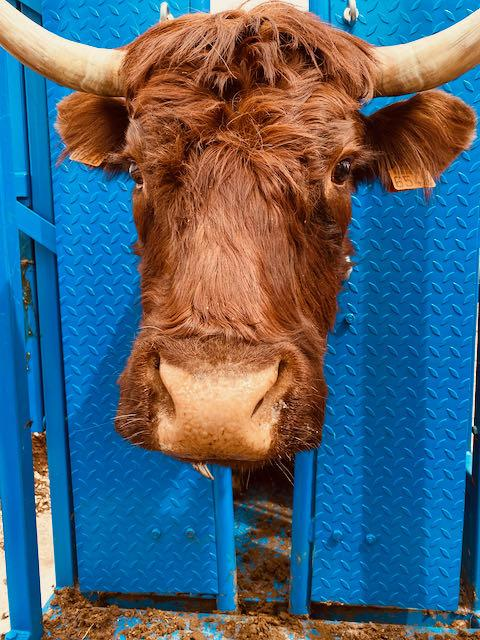muzzles: (104, 338, 327, 475)
